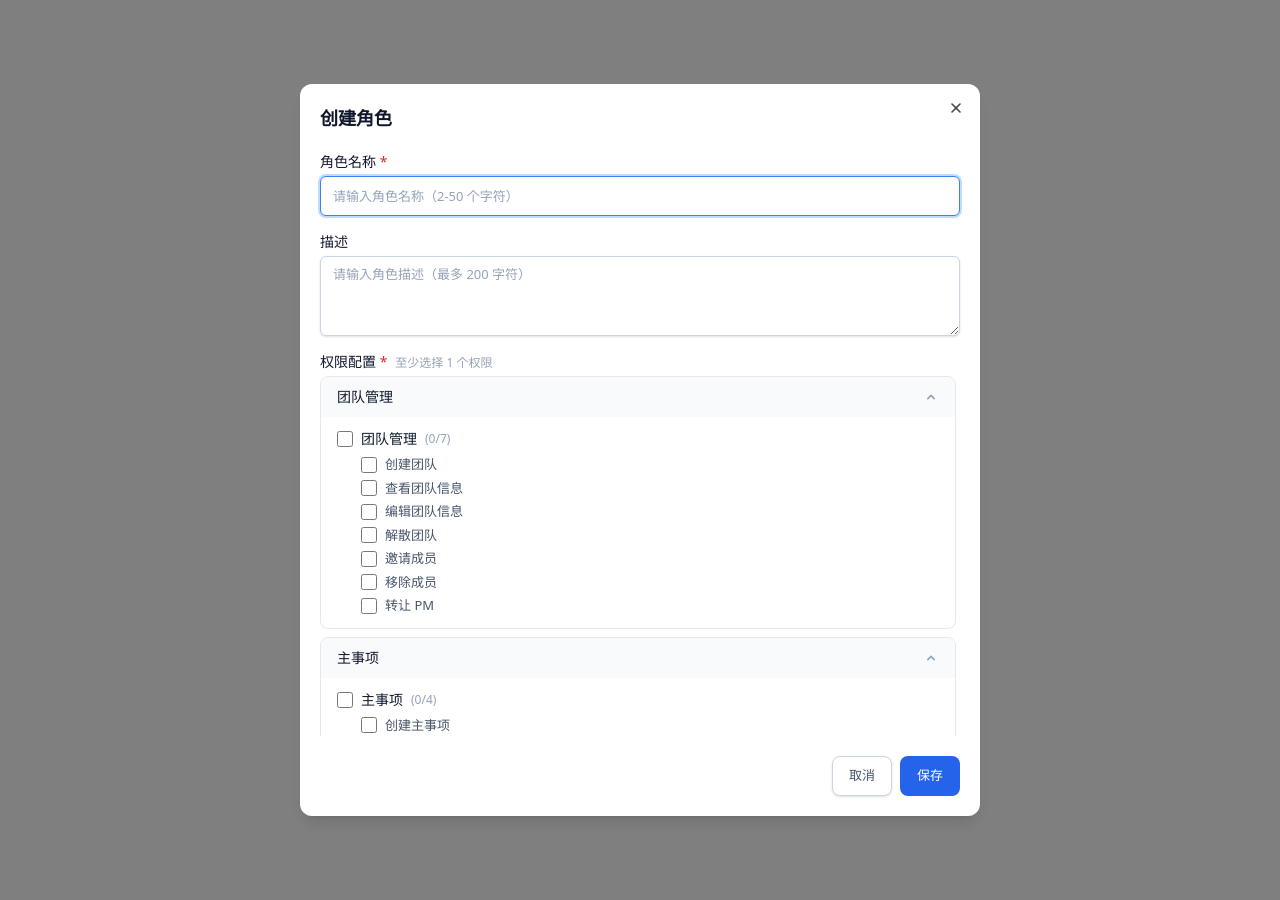
RoleEditDialog › shows error for duplicate role name
The width and height of the screenshot is (1280, 900).
Step 1. Type "pm" into the field with placeholder "请输入角色名称（2-50 个字符）" → (640, 196), box [320, 176, 960, 216]
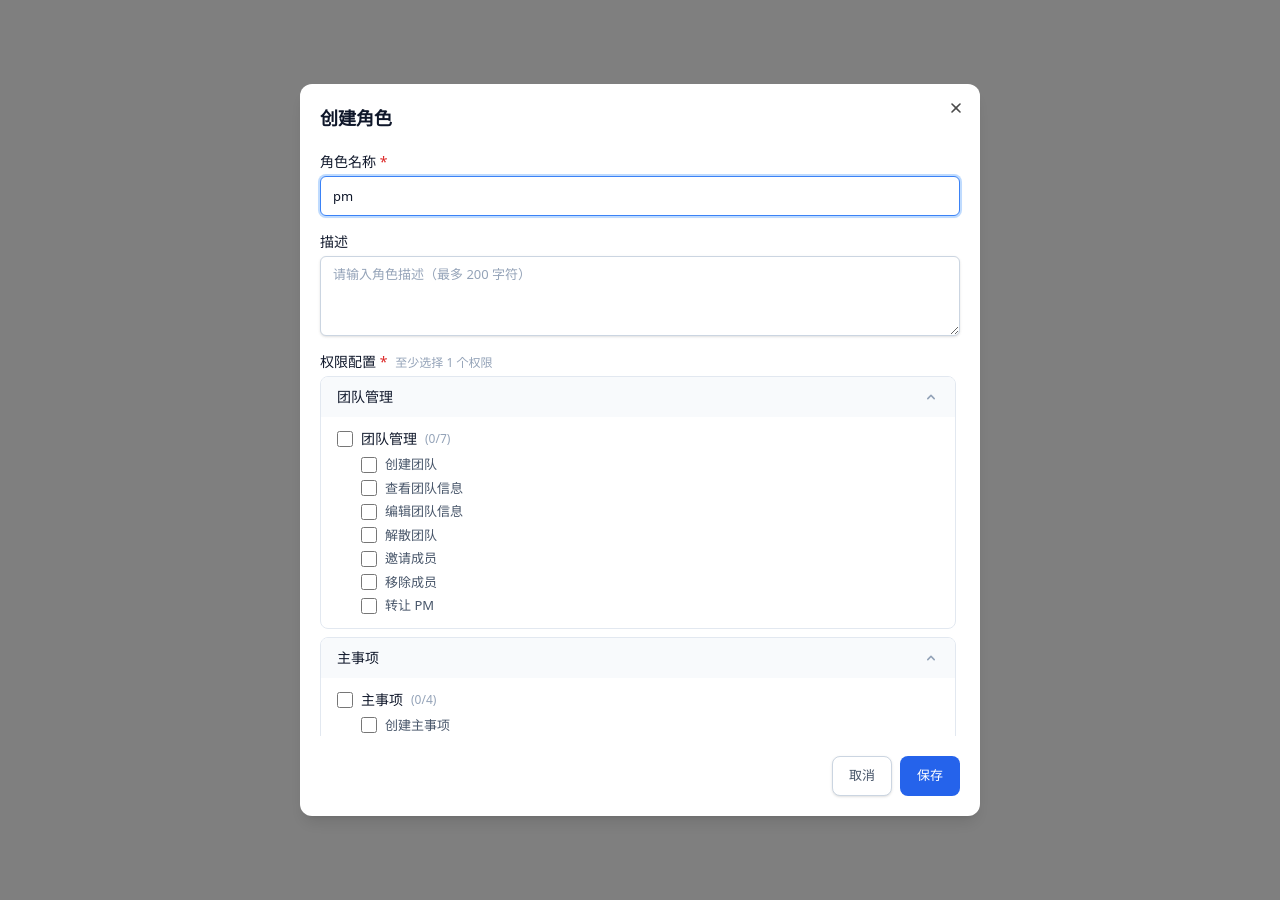
Note: Select at least one permission - click the first checkbox option "创建团队"
Step 2. Click the text "创建团队" → click(411, 465), box [385, 455, 437, 474]
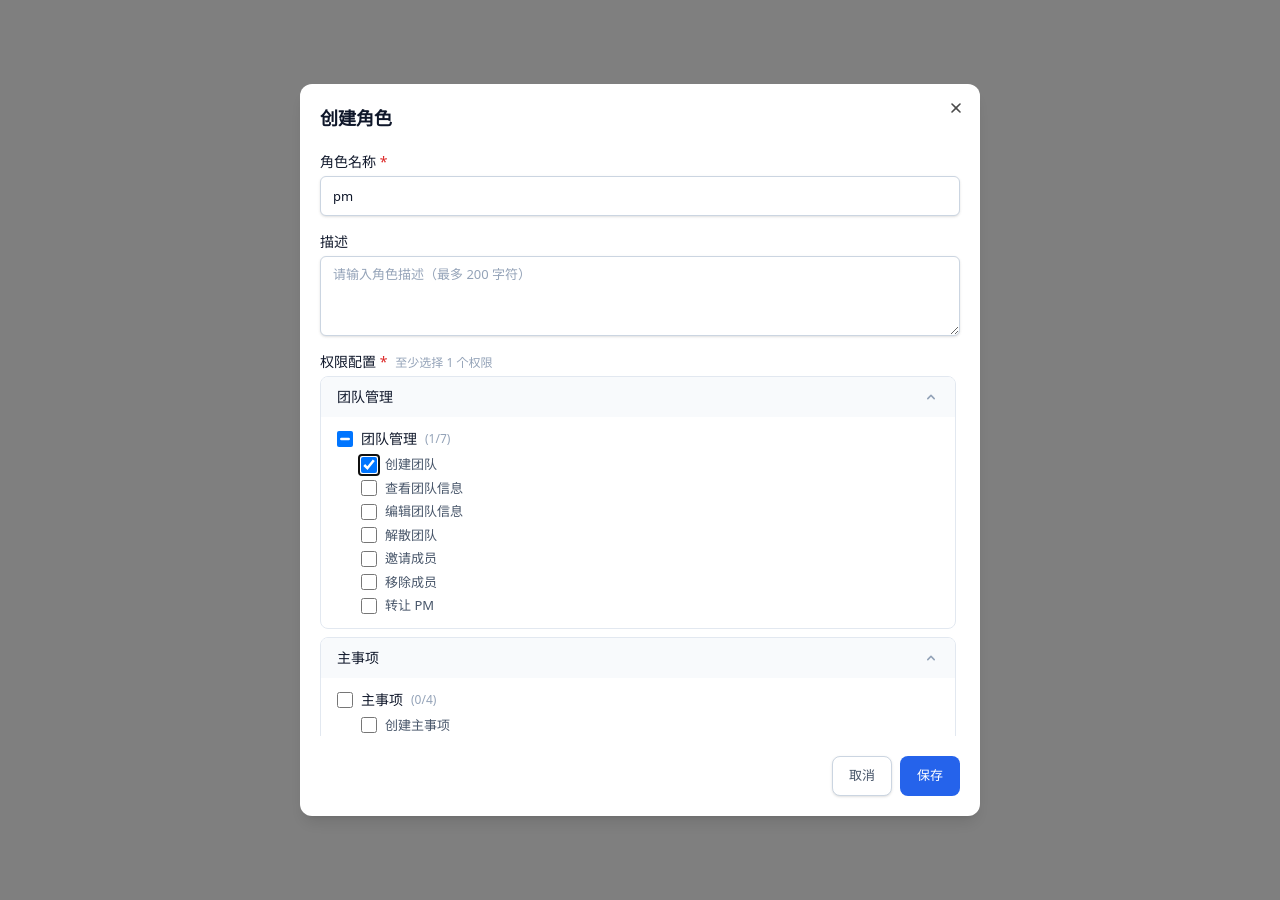
Step 3. Click the button "保存" → click(930, 776), box [900, 756, 960, 796]
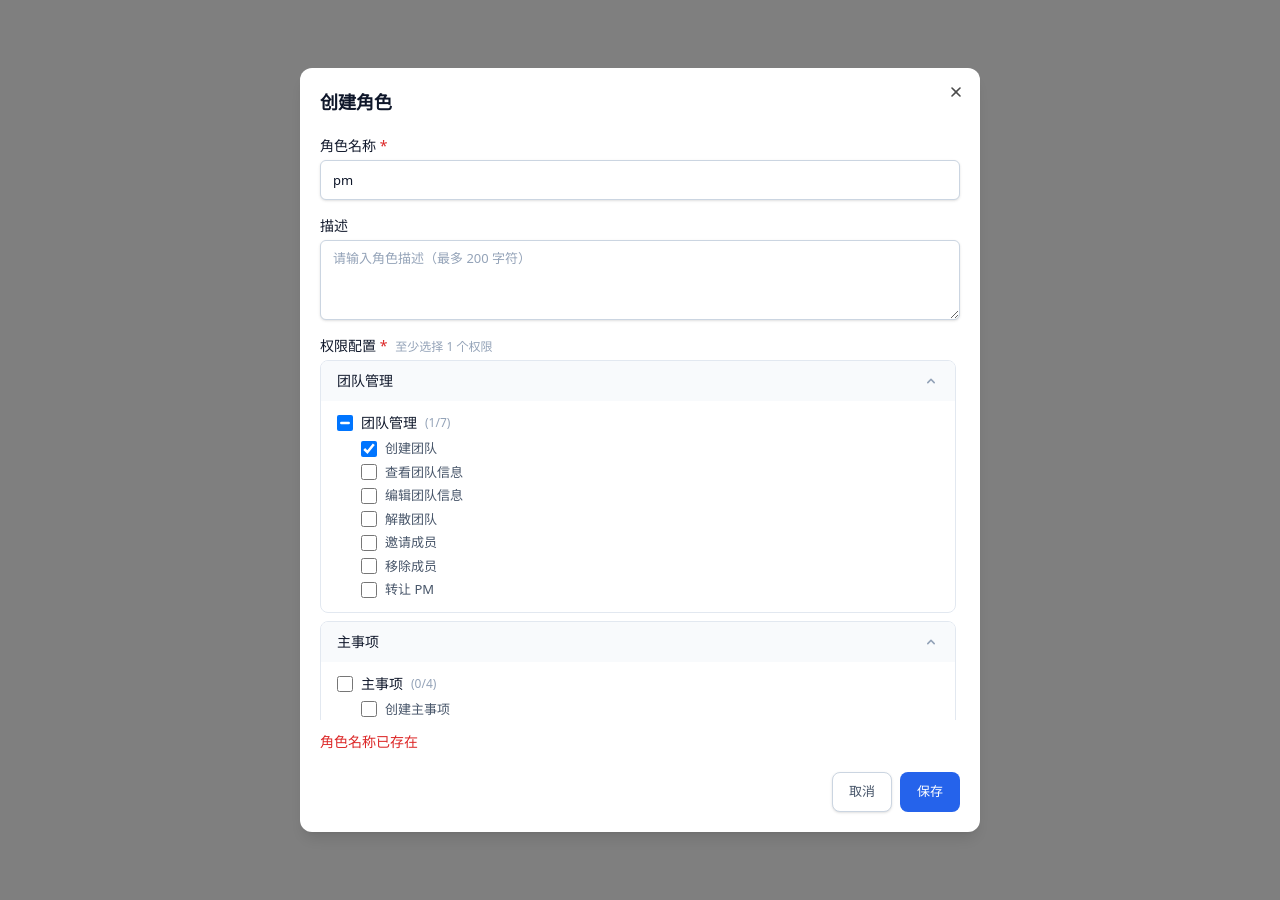
Now the text "角色名称已存在" is shown, box [320, 732, 418, 751]
